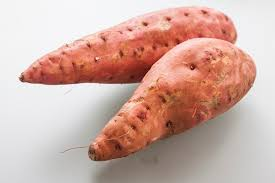Sweet Potato: (79, 38, 255, 162), (32, 8, 235, 84)
